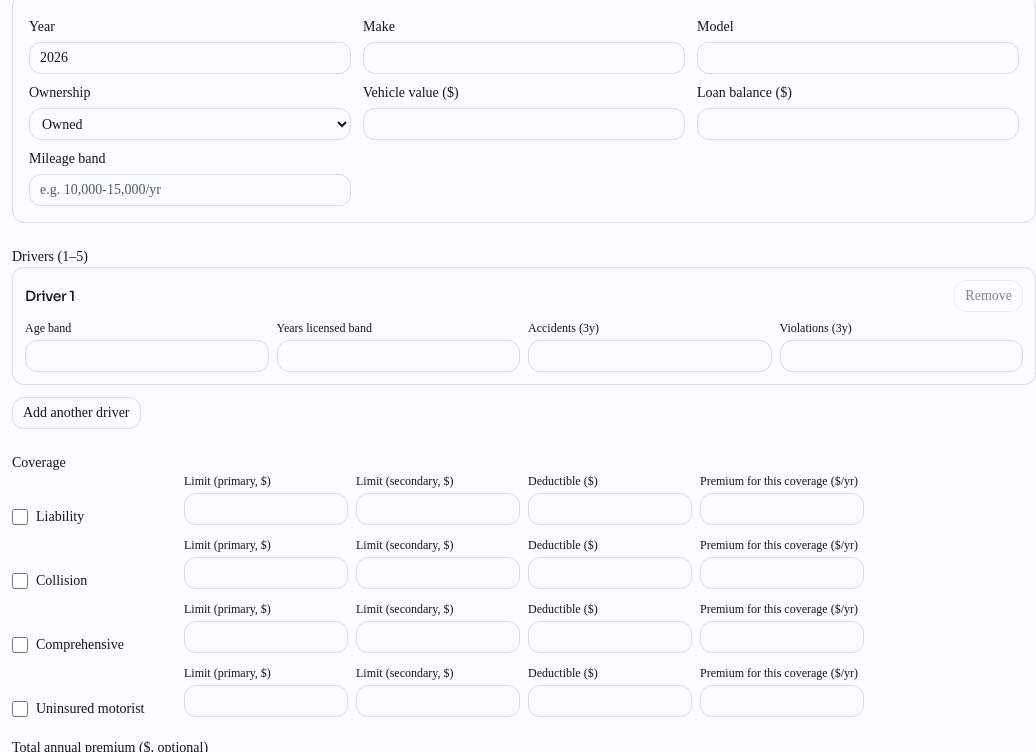
CarProfile › never renders ranking or advice language
Type "Honda" into the field labelled "Make" at (524, 58), box [363, 42, 685, 74]
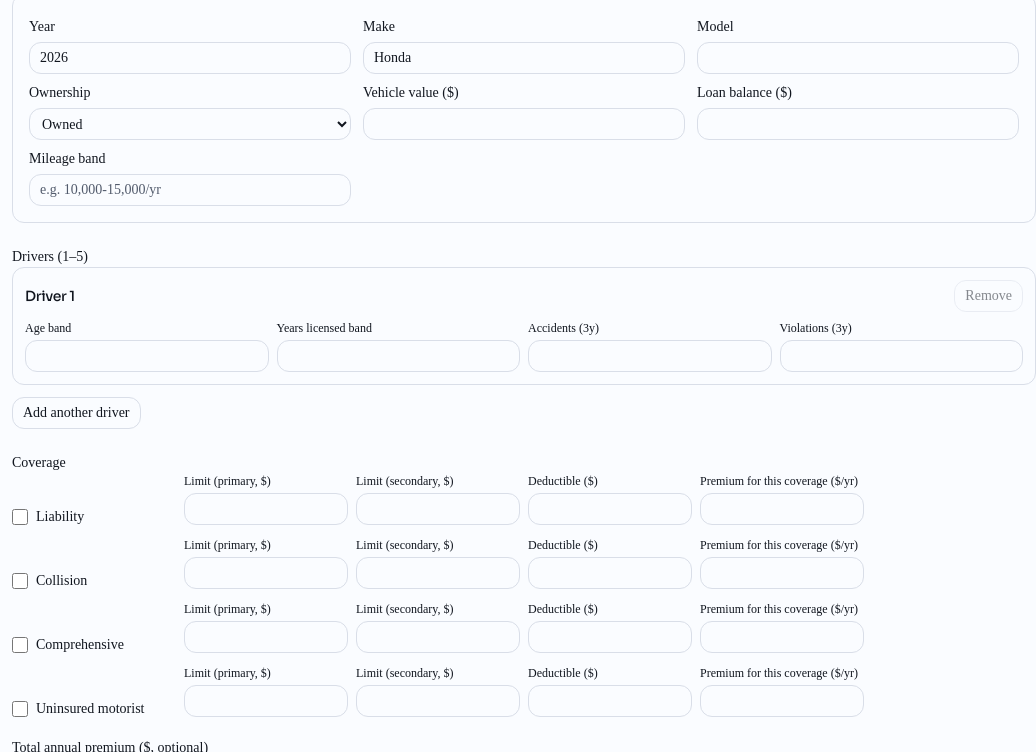
Type "Civic" into the field labelled "Model" at (858, 58), box [697, 42, 1019, 74]
(page scrolled)
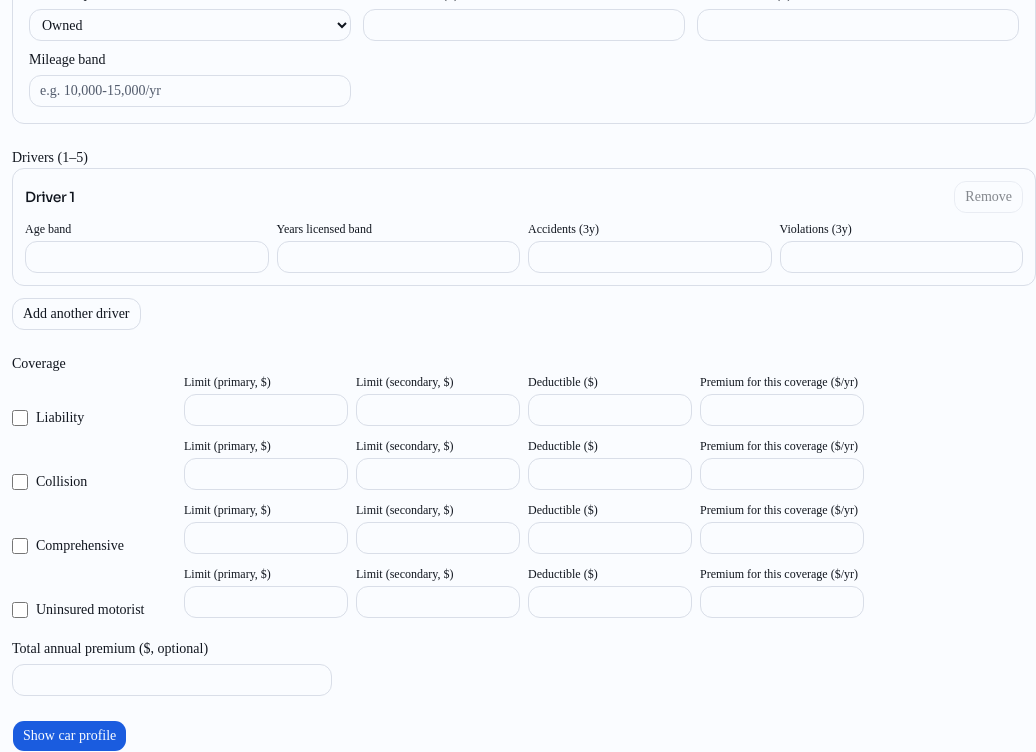
Click the button "Show car profile" at (70, 736), box [12, 720, 127, 751]
(page scrolled)
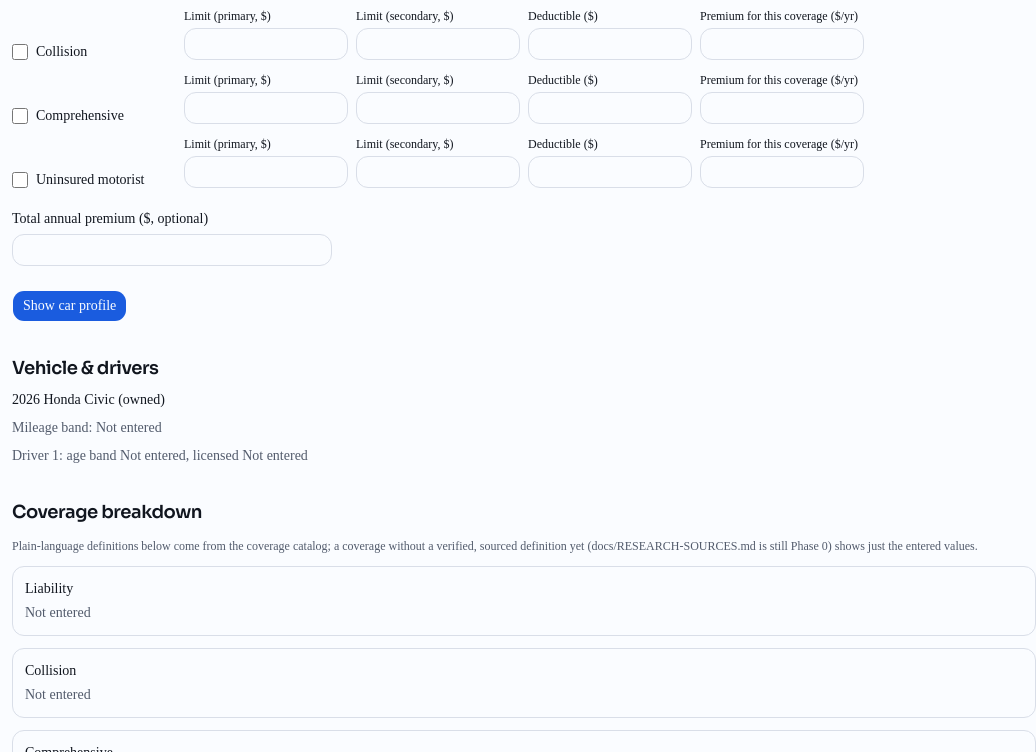
Now the heading "Vehicle & drivers" is shown, box [12, 357, 158, 379]
